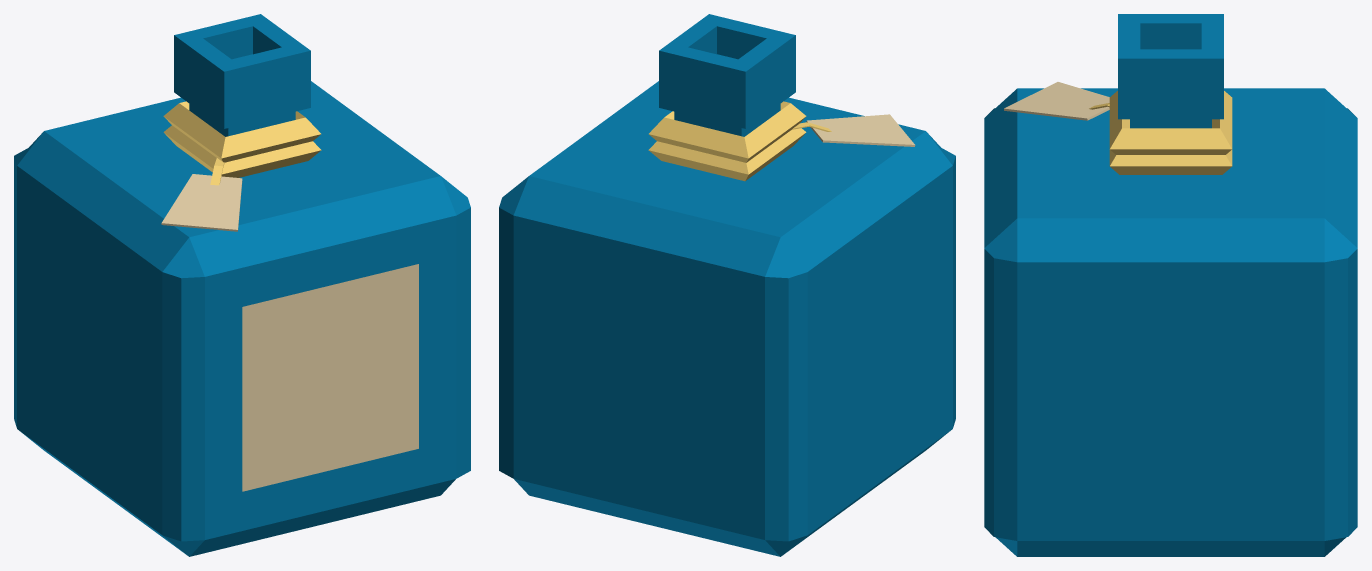
The model's file is Bottle_01.glb.
The picture shows the model from 3 angles, left to right: view 1: azimuth 30°, elevation 25°; view 2: azimuth 150°, elevation 25°; view 3: azimuth 270°, elevation 25°; orthographic projection. The views are drawn at different scales.
Visible parts, largest first — view 1: Bottle_01; view 2: Bottle_01; view 3: Bottle_01.
Boxes of the visible parts, x1=… form: Bottle_01: x1=14, y1=14, x2=470, y2=556; Bottle_01: x1=499, y1=14, x2=955, y2=556; Bottle_01: x1=984, y1=14, x2=1357, y2=556.
Size of what is drawn, in the model's own units: 0.1844 by 0.2482 by 0.1844.
Materials: 1 (1 with a texture image).
